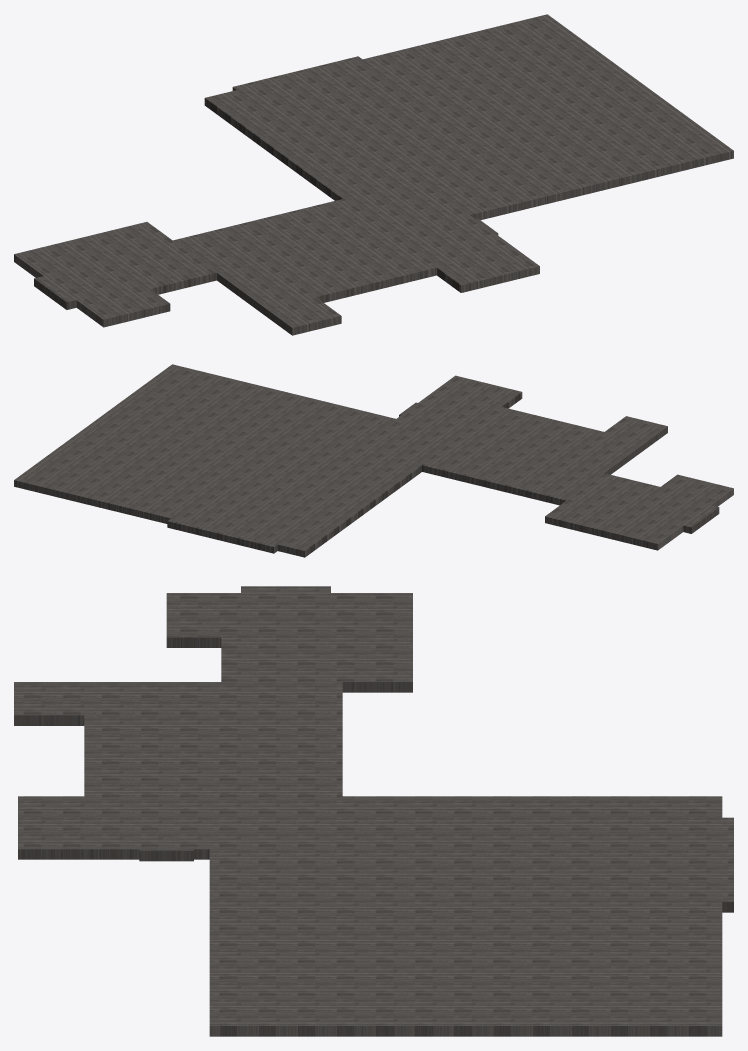
File: 1860_kitchen_Floor_CastinePlusWhitefillOak.gltf
3 renders of one model, top to bottom at view 1: azimuth 30°, elevation 25°; view 2: azimuth 150°, elevation 25°; view 3: azimuth 270°, elevation 25°, orthographic. The views are drawn at different scales.
Parts seen in each view (by area): view 1: Floor_Castine Cove Plus 7Whitefill Oak; view 2: Floor_Castine Cove Plus 7Whitefill Oak; view 3: Floor_Castine Cove Plus 7Whitefill Oak.
Part boxes in pixels (x1=…): Floor_Castine Cove Plus 7Whitefill Oak: x1=14, y1=14, x2=733, y2=335; Floor_Castine Cove Plus 7Whitefill Oak: x1=14, y1=364, x2=733, y2=557; Floor_Castine Cove Plus 7Whitefill Oak: x1=14, y1=586, x2=733, y2=1036.
Bounding box in the file's own units: 26.6 × 0.3 × 18.4.
1 material, 1 textured.
